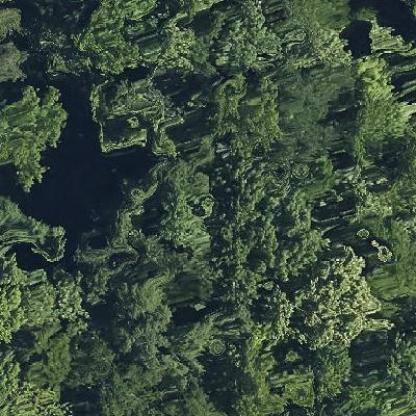tree-top: (282, 244, 390, 352), (89, 72, 185, 160), (0, 80, 73, 191), (204, 70, 293, 156), (347, 52, 415, 161)
